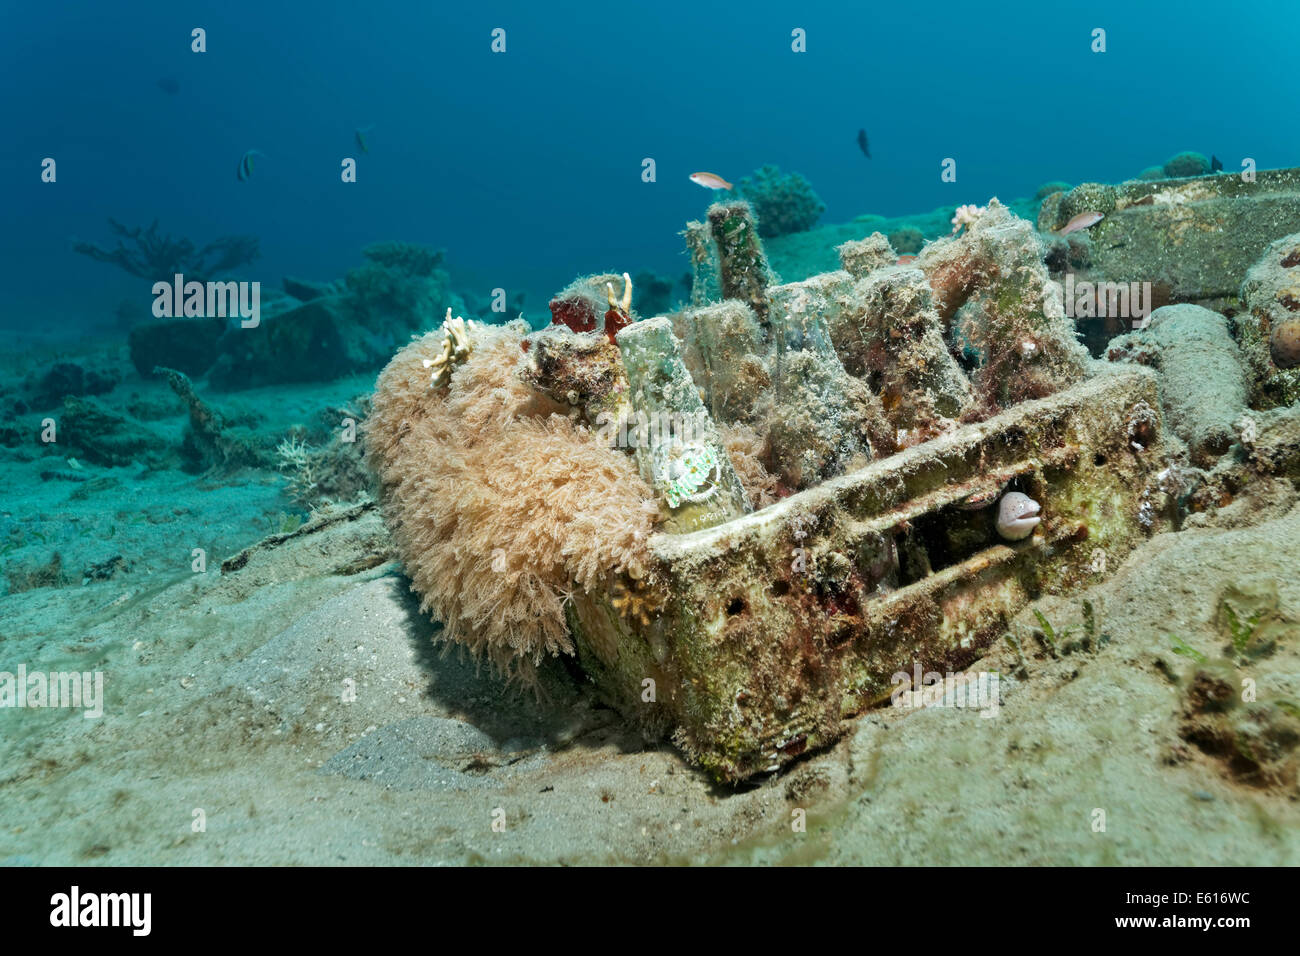Fish: (1041, 140, 1300, 329), (680, 157, 740, 198)
Metal: (357, 190, 1160, 781)
